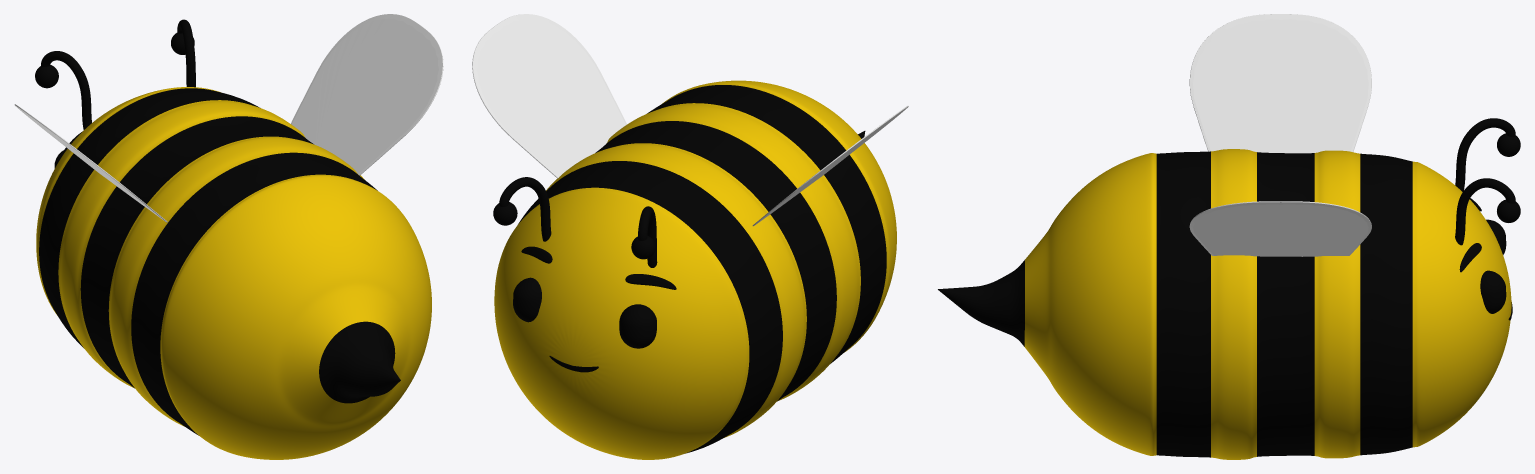
Rendered from bee.glb.
3 views of the same model, side by side, from view 1: azimuth 30°, elevation 25°; view 2: azimuth 150°, elevation 25°; view 3: azimuth 270°, elevation 25° (orthographic).
Parts seen in each view (by area): view 1: Plane.001, kanat, kanat.001; view 2: Plane.001, kanat, kanat.001; view 3: Plane.001, kanat.001, kanat.
Part boxes in pixels (bbox=[...]): Plane.001: bbox=[35, 19, 431, 459]; kanat: bbox=[291, 14, 443, 175]; kanat.001: bbox=[14, 104, 167, 222]; Plane.001: bbox=[493, 80, 896, 459]; kanat: bbox=[472, 14, 626, 178]; kanat.001: bbox=[752, 106, 908, 226]; Plane.001: bbox=[938, 118, 1520, 459]; kanat.001: bbox=[1189, 14, 1371, 153]; kanat: bbox=[1189, 201, 1371, 256].
Size of the model in its own units: 2.82 by 2.37 by 3.71.
